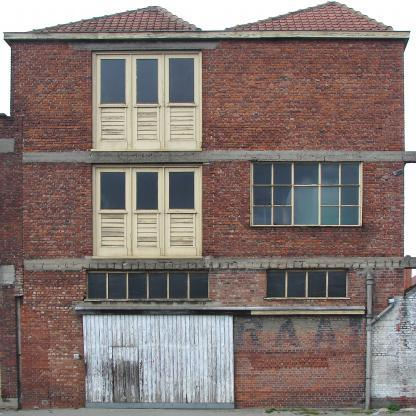Building Outline: (0, 1, 416, 412)
Door: (113, 347, 138, 403)
Facade: (0, 1, 416, 409)
Floor: (1, 151, 404, 269)
Floor Slab: (0, 258, 416, 269), (0, 151, 416, 161)
Ground Floor: (1, 269, 404, 409)
Roof: (224, 1, 395, 31), (25, 6, 202, 32)
Top Floor: (11, 33, 404, 151)
Window: (250, 163, 362, 227), (86, 270, 209, 298), (267, 270, 348, 298), (100, 59, 126, 102), (169, 59, 194, 102), (100, 173, 126, 210), (169, 172, 194, 209), (137, 59, 158, 102), (137, 173, 158, 210)
